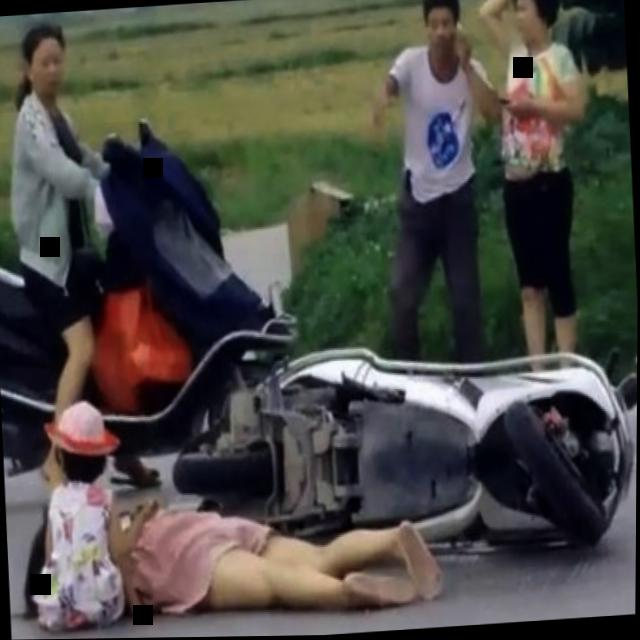Fall-Detected: (75, 460, 443, 632)
